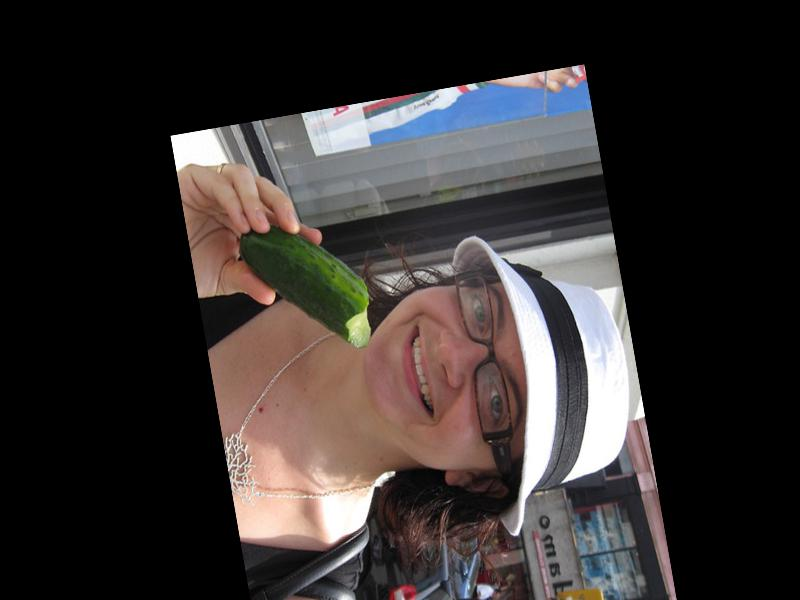Cucumber: (235, 208, 376, 363)
